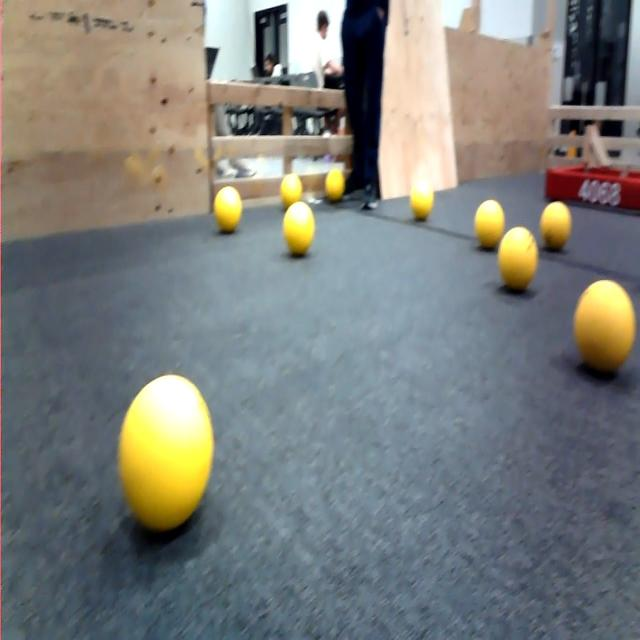Bumper: (537, 155, 640, 220)
fuel: (116, 370, 216, 546), (573, 278, 637, 381), (500, 224, 536, 292), (539, 198, 574, 257), (475, 200, 504, 247), (284, 200, 309, 254), (215, 189, 243, 236), (280, 166, 304, 212), (327, 162, 347, 200), (414, 178, 431, 216)
